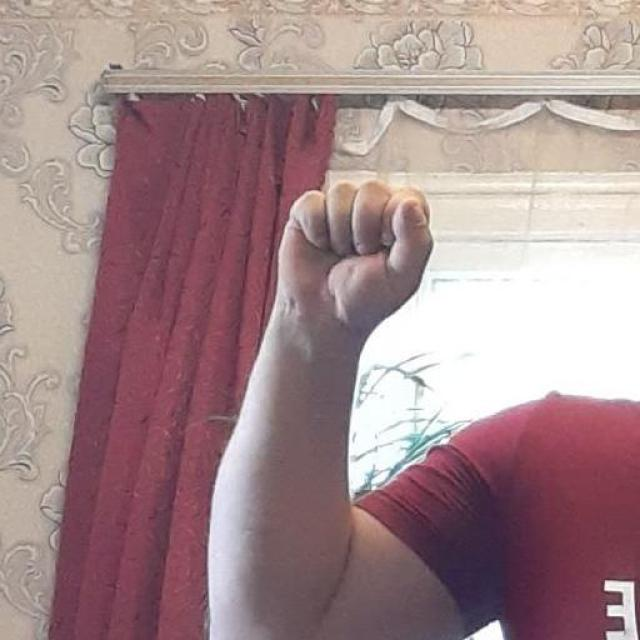hand: (270, 175, 434, 356)
